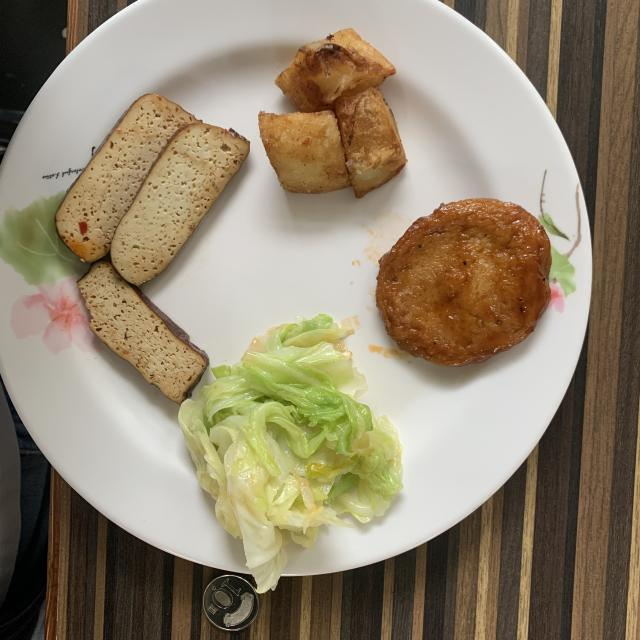cabbage: (179, 315, 402, 592)
coin: (202, 575, 259, 631)
firm tofu: (55, 95, 250, 402)
fish cake: (376, 199, 551, 366)
fried potato: (259, 29, 406, 198)
